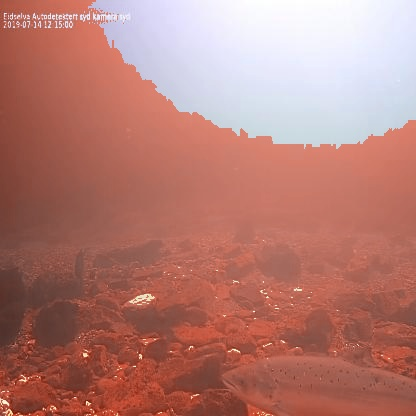salmon: (218, 340, 416, 416)
